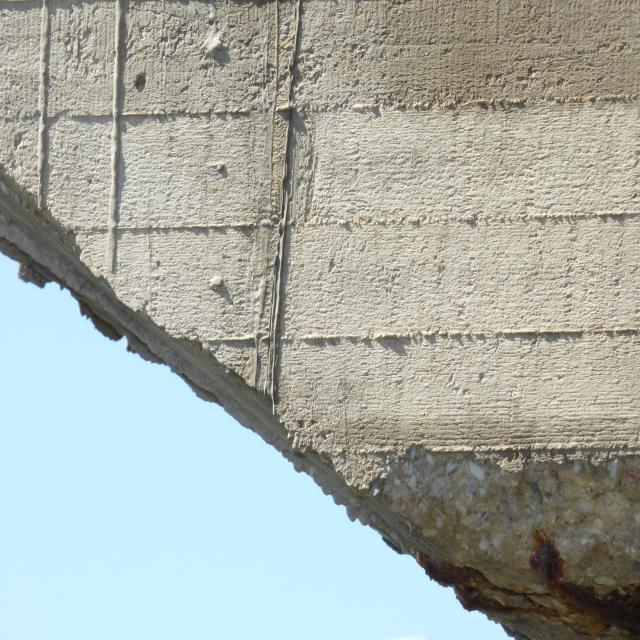corrosion: (410, 519, 640, 640)
